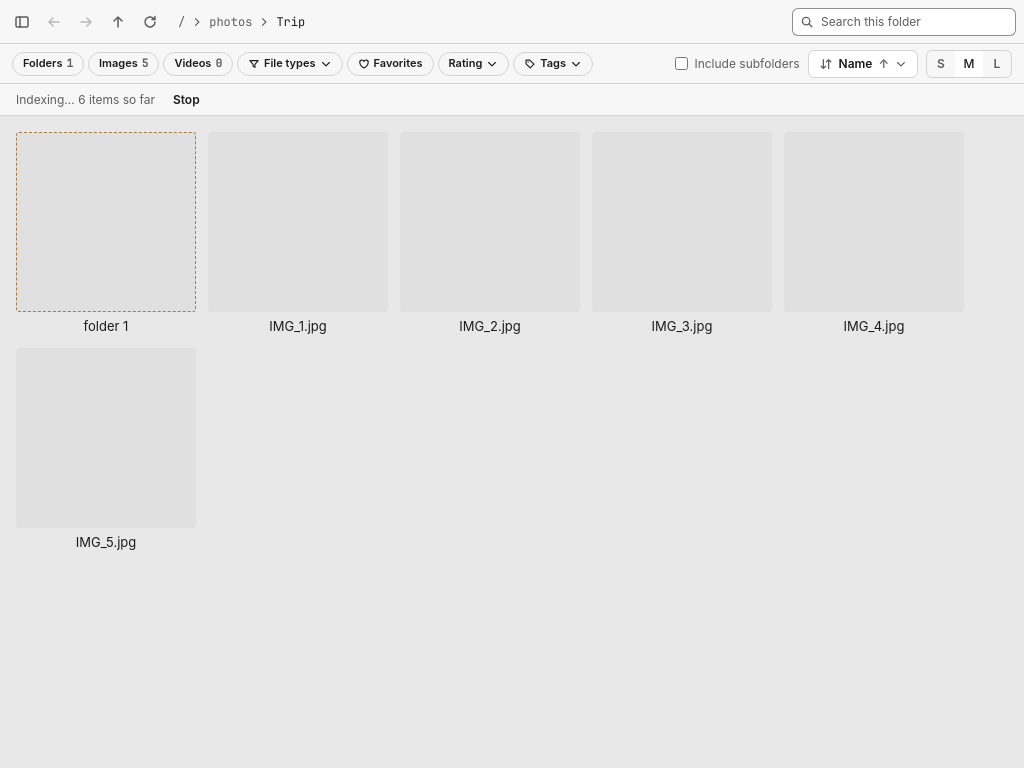
it: rename › F2 on one item renames it and shows Go's validation error
Expected: the text "IMG_2.jpg" is shown, [459, 318, 521, 334]
Click the cell "IMG_2.jpg": (490, 240) [400, 132, 580, 348]
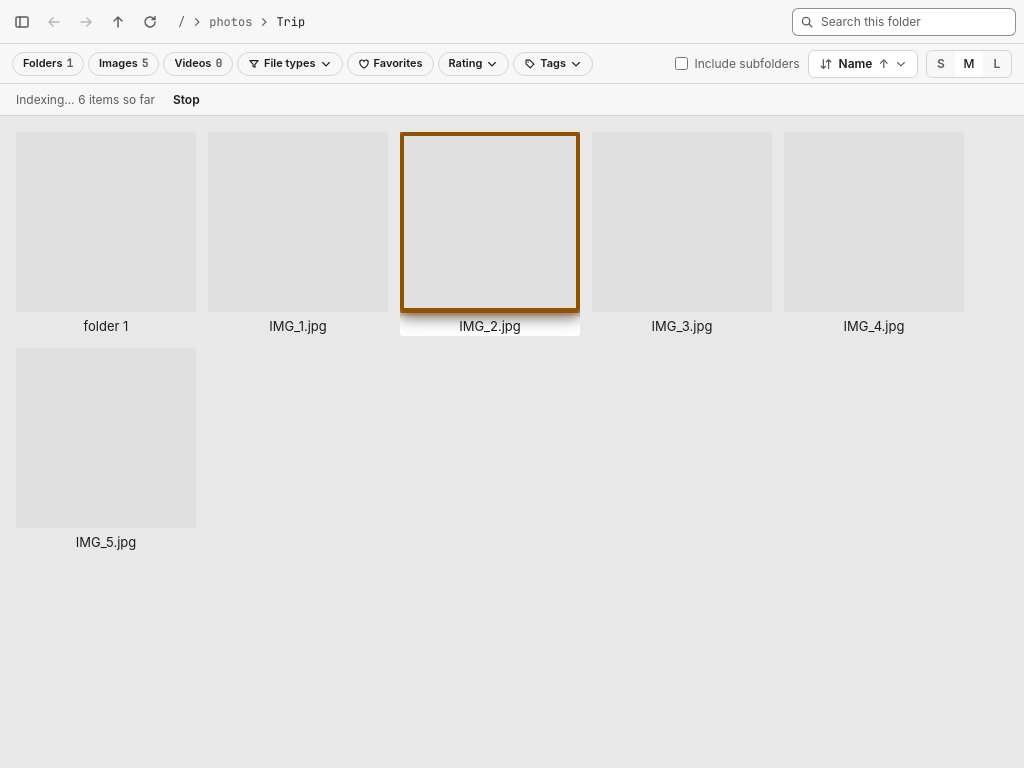
Press F2
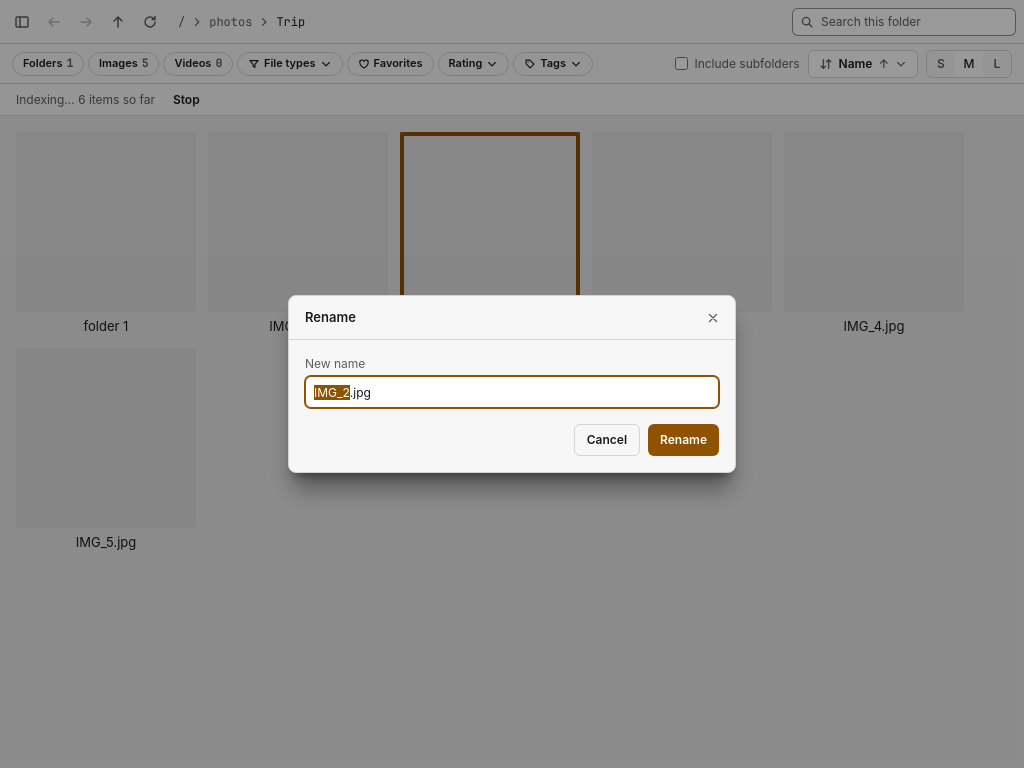
Expected: the field with test id "rename-input" holds "IMG_2.jpg"
Replace the text in the field with test id "rename-input" with "a/b.jpg": (512, 392) [305, 376, 719, 408]
Then press Enter
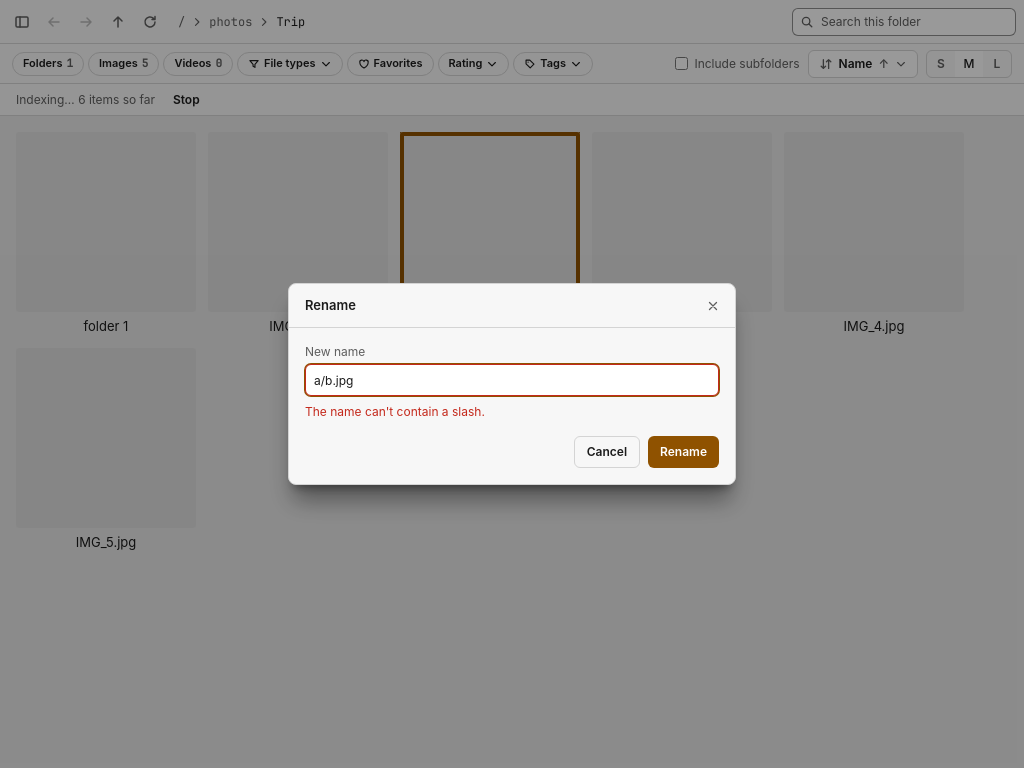
Expected: the message shows "can't contain", [305, 404, 485, 419]
Clear the field with test id "rename-input": (512, 380) [305, 364, 719, 396]
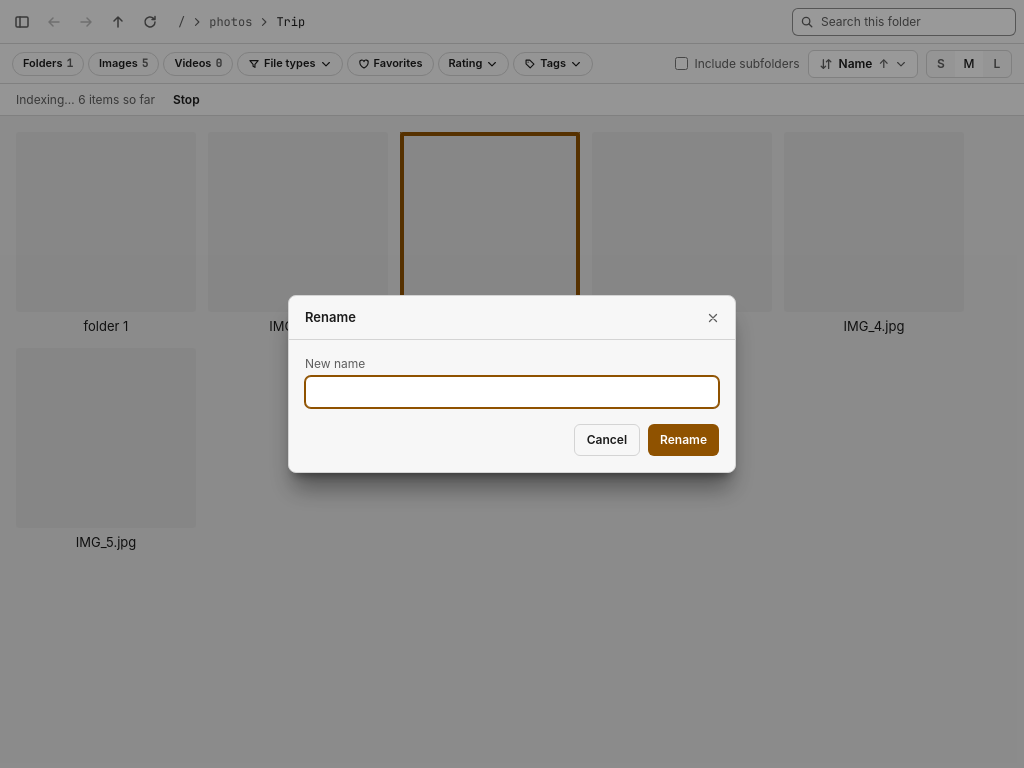
In the field with test id "rename-input": (512, 392) [305, 376, 719, 408], type "Beach.jpg"
Then press Enter
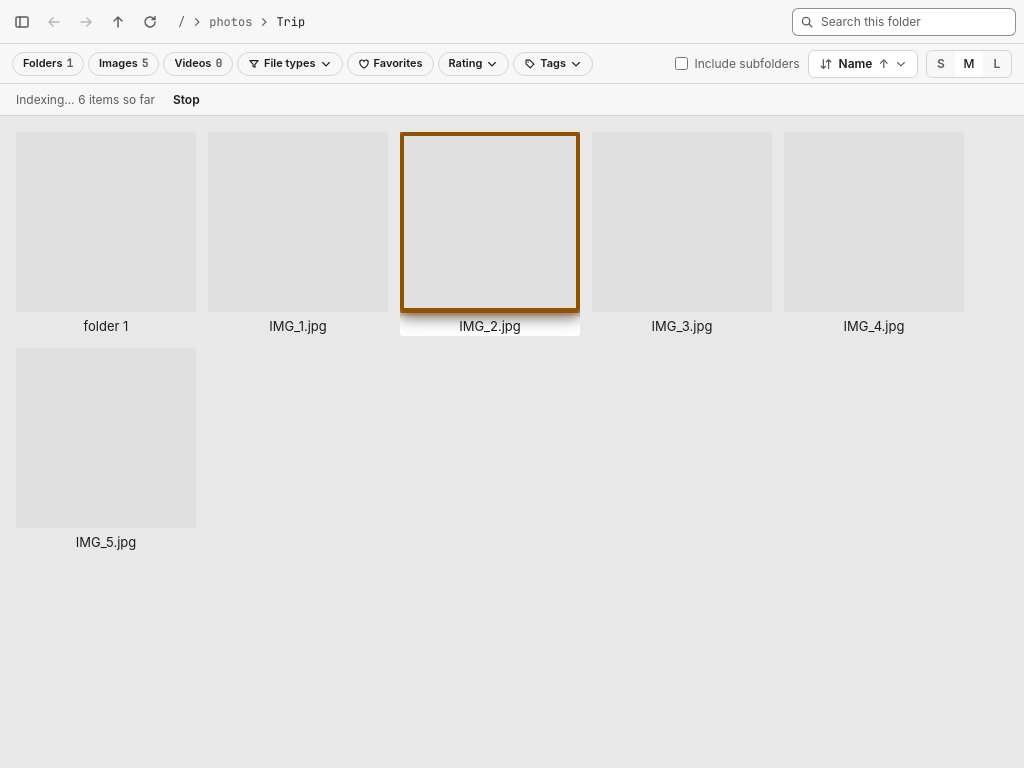
Expected: the dialog is gone
